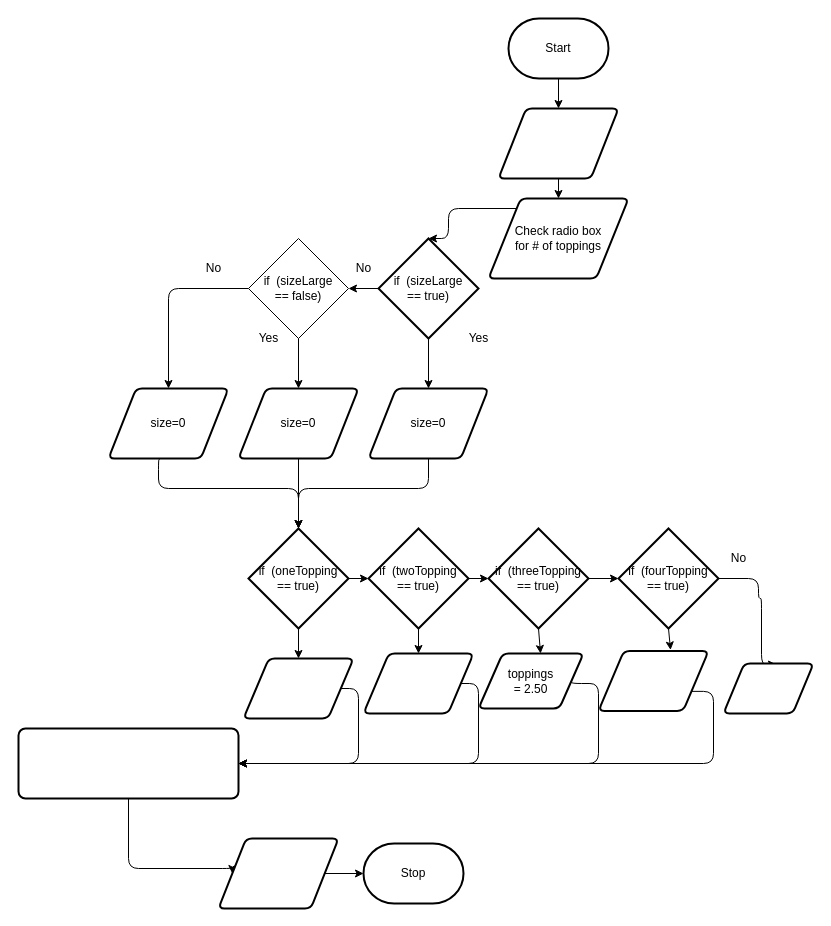
This 831x926 diagram has some shape labels left out. Each missing label, with the centre of its shape:
Check radio box for pizza size: pixel 558 143
Show total cost: pixel 278 873
toppimgs = 3.35: pixel 653 681
toppings = 1.00: pixel 298 688
toppings = 1.75: pixel 418 683
toppings =0: pixel 768 688
total = (size =toppings) *(1 + TAX): pixel 128 763
